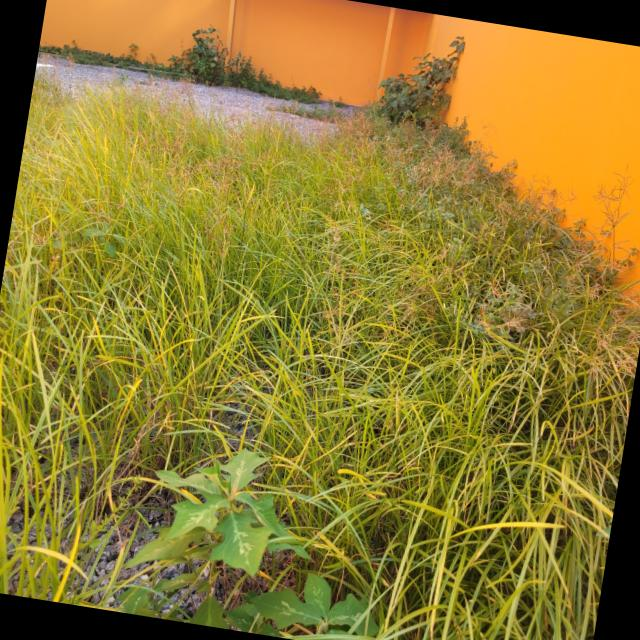cyperus: (380, 237, 463, 351), (314, 254, 370, 348), (588, 157, 636, 250), (584, 305, 640, 383), (150, 127, 206, 200), (476, 275, 534, 343), (313, 163, 363, 240), (522, 171, 582, 231), (411, 126, 458, 188), (195, 200, 239, 262), (215, 126, 254, 180), (482, 175, 520, 226), (89, 184, 130, 228), (378, 134, 416, 181), (586, 258, 623, 305), (369, 210, 404, 258), (559, 246, 588, 302), (200, 154, 230, 198), (46, 218, 68, 274), (175, 64, 201, 102), (394, 182, 424, 214), (358, 126, 384, 162), (312, 111, 336, 150), (144, 72, 170, 108), (352, 105, 377, 142), (24, 216, 52, 248), (258, 91, 280, 128), (124, 153, 151, 183), (282, 96, 302, 133), (456, 158, 479, 188), (330, 112, 356, 138), (110, 94, 136, 117), (616, 284, 640, 308), (178, 100, 198, 127), (133, 125, 152, 152), (118, 120, 136, 146), (340, 142, 359, 166), (477, 119, 495, 143), (130, 78, 147, 102), (264, 177, 280, 200), (260, 147, 280, 165), (49, 57, 62, 84), (64, 51, 78, 71), (282, 190, 294, 211), (251, 156, 259, 172), (40, 52, 49, 66)
